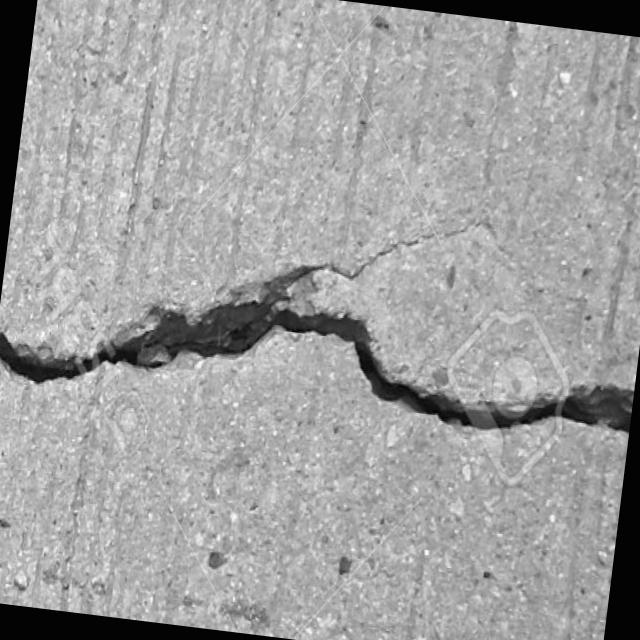crack: (0, 264, 639, 457), (257, 187, 517, 325)
